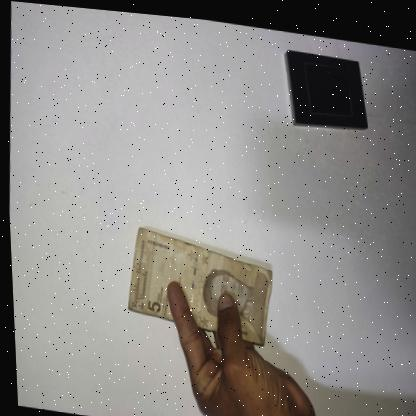vef_front: (120, 221, 274, 341)
